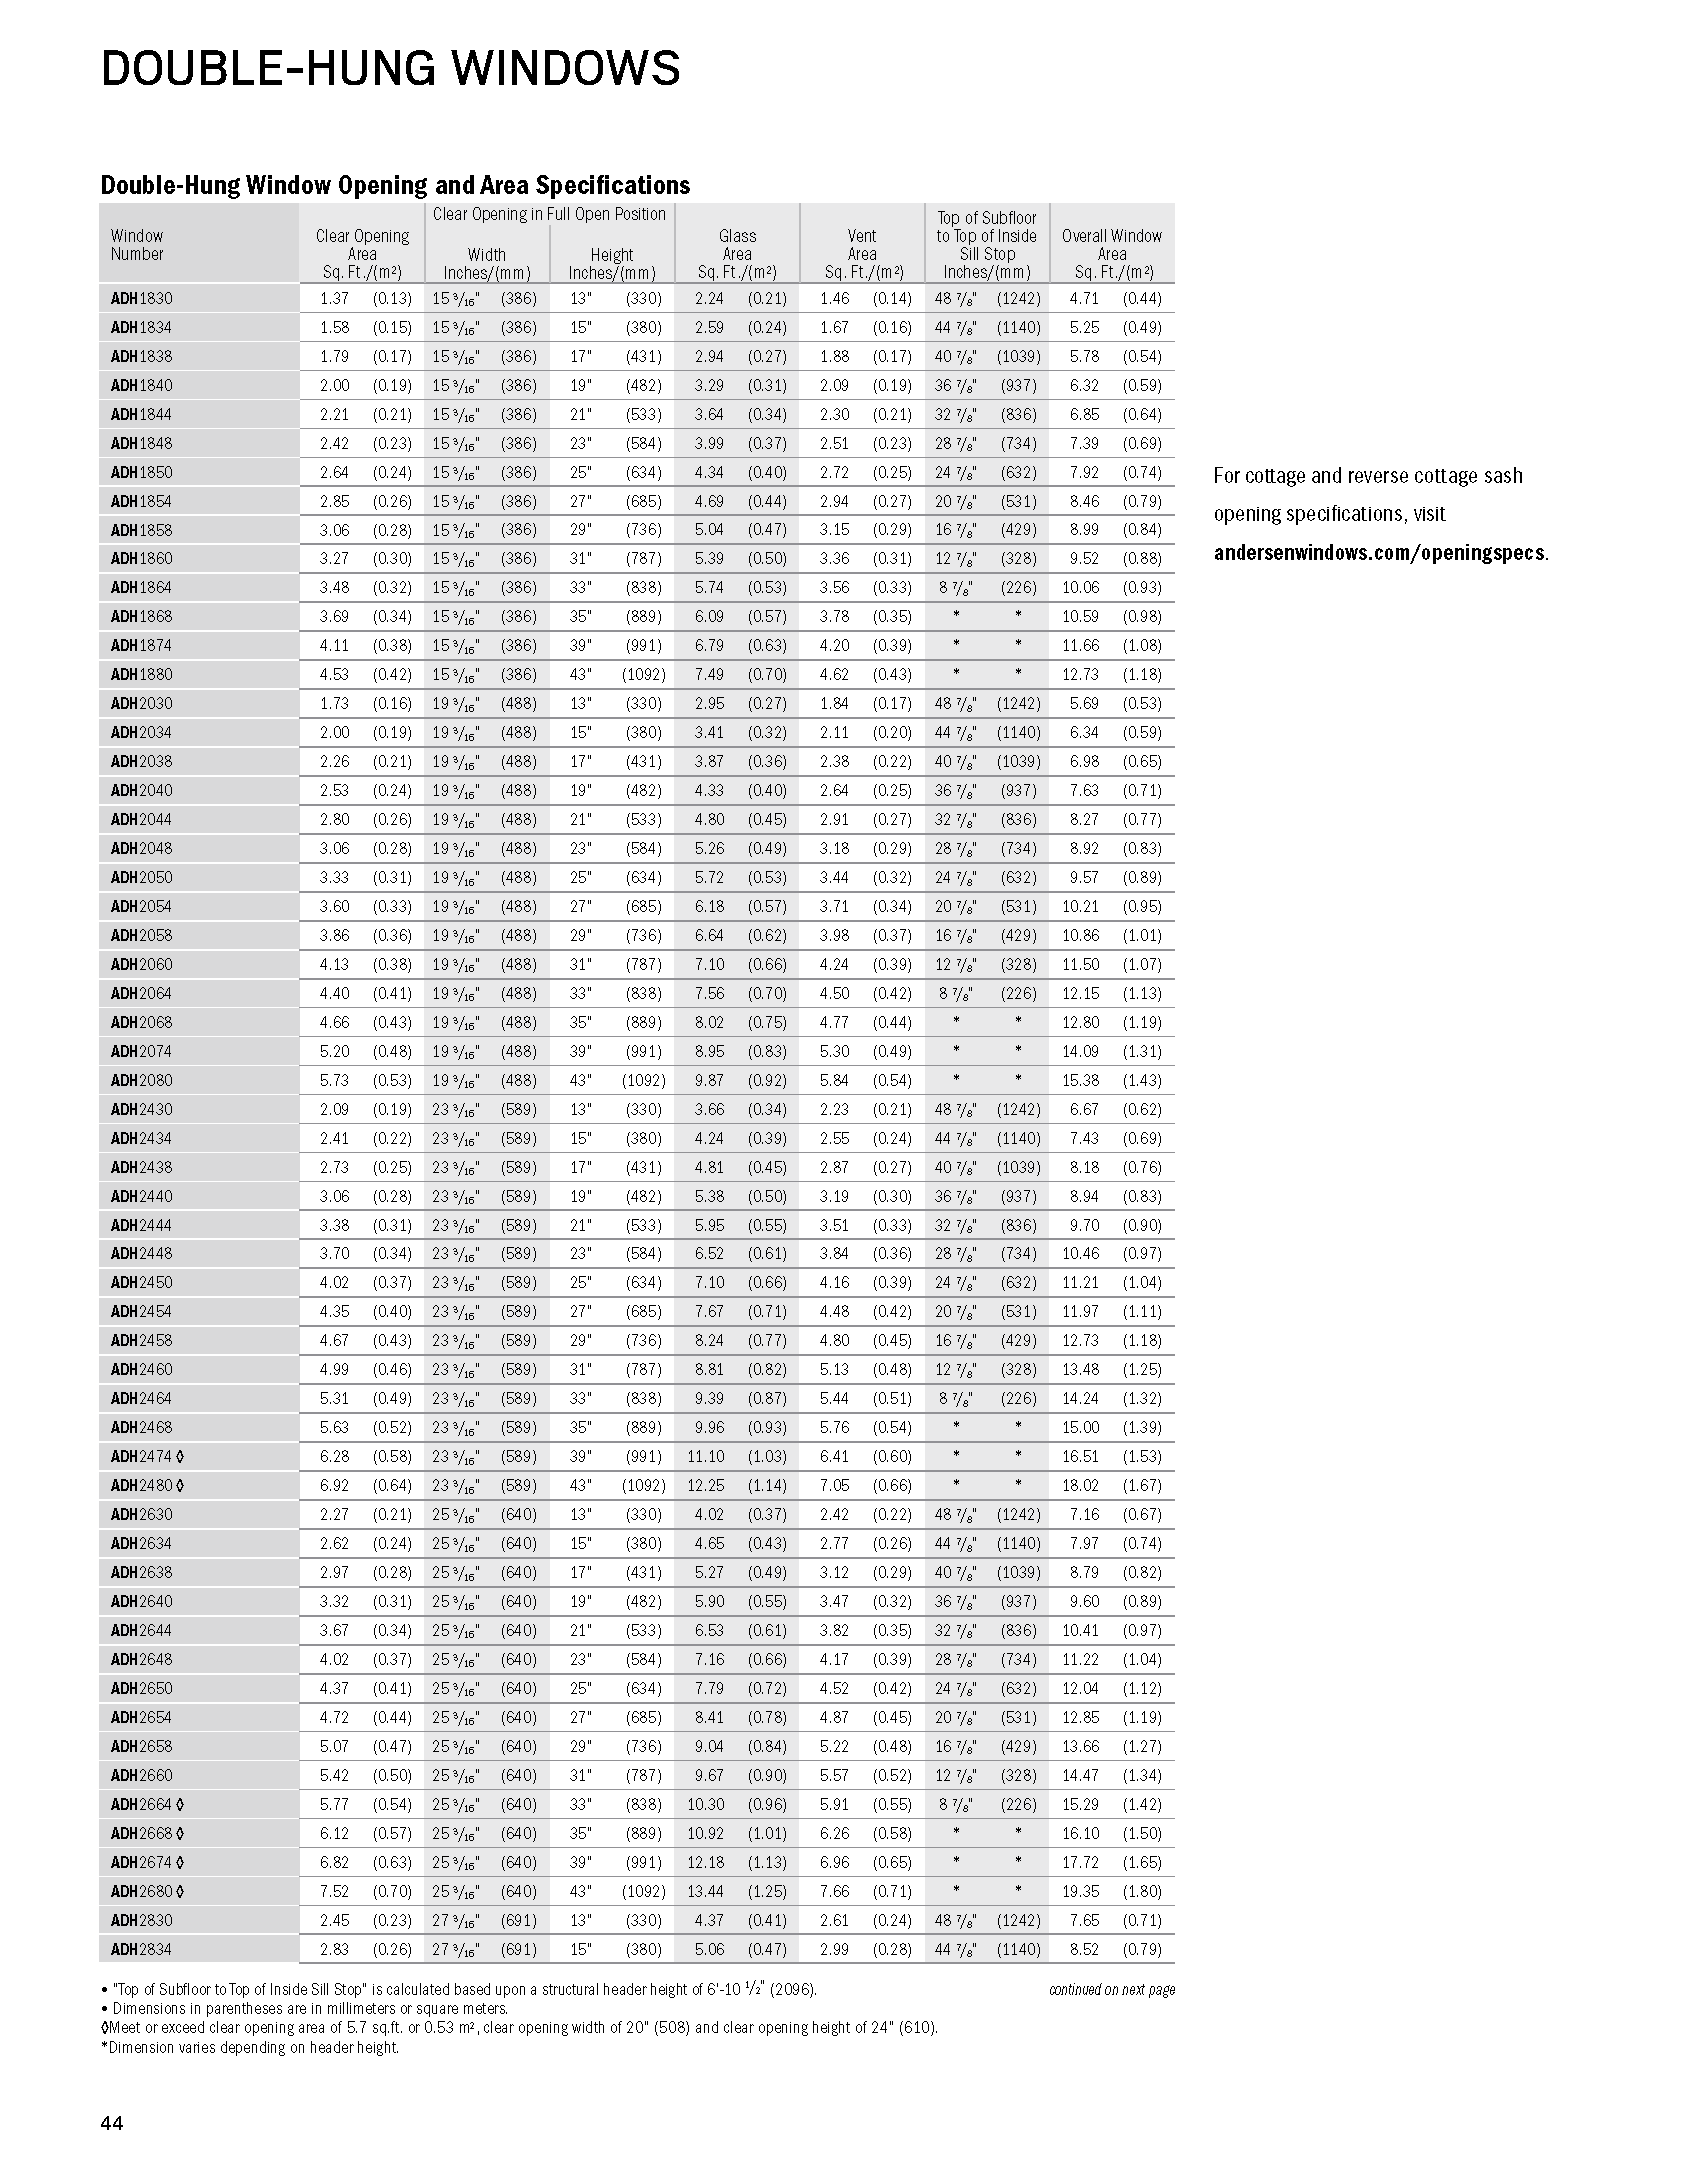tabledetected: (102, 205, 1172, 1958)
